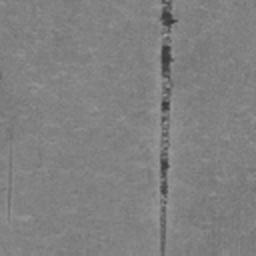Slag inclusion: (160, 0, 178, 33), (161, 37, 174, 81), (160, 147, 169, 196), (161, 87, 171, 113), (161, 207, 165, 252)
